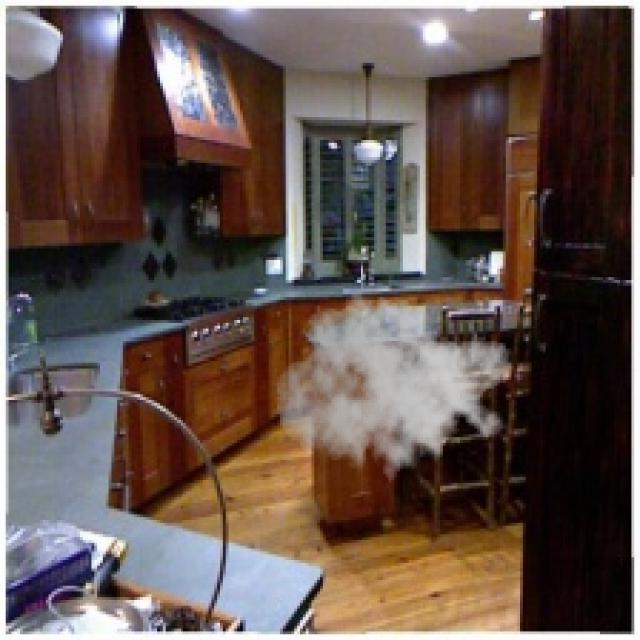Smoke: (274, 286, 514, 492)
